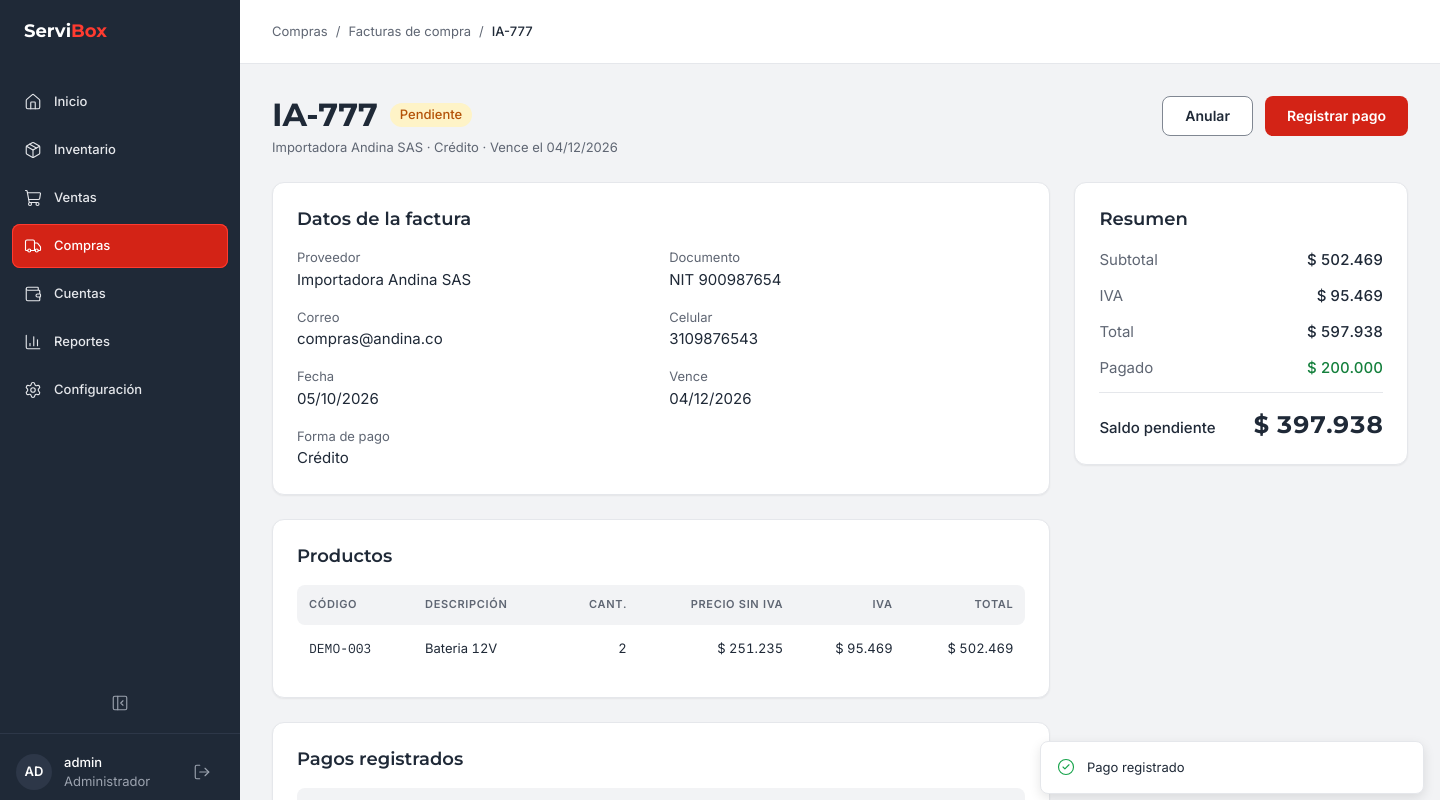
Test: detalle de factura de compra › un 409 de saldo queda en el modal sin perder lo digitado y refresca cuentas y factura
Click the button "Registrar pago".
click(1336, 116)  # box 1265,96 -> 1408,136
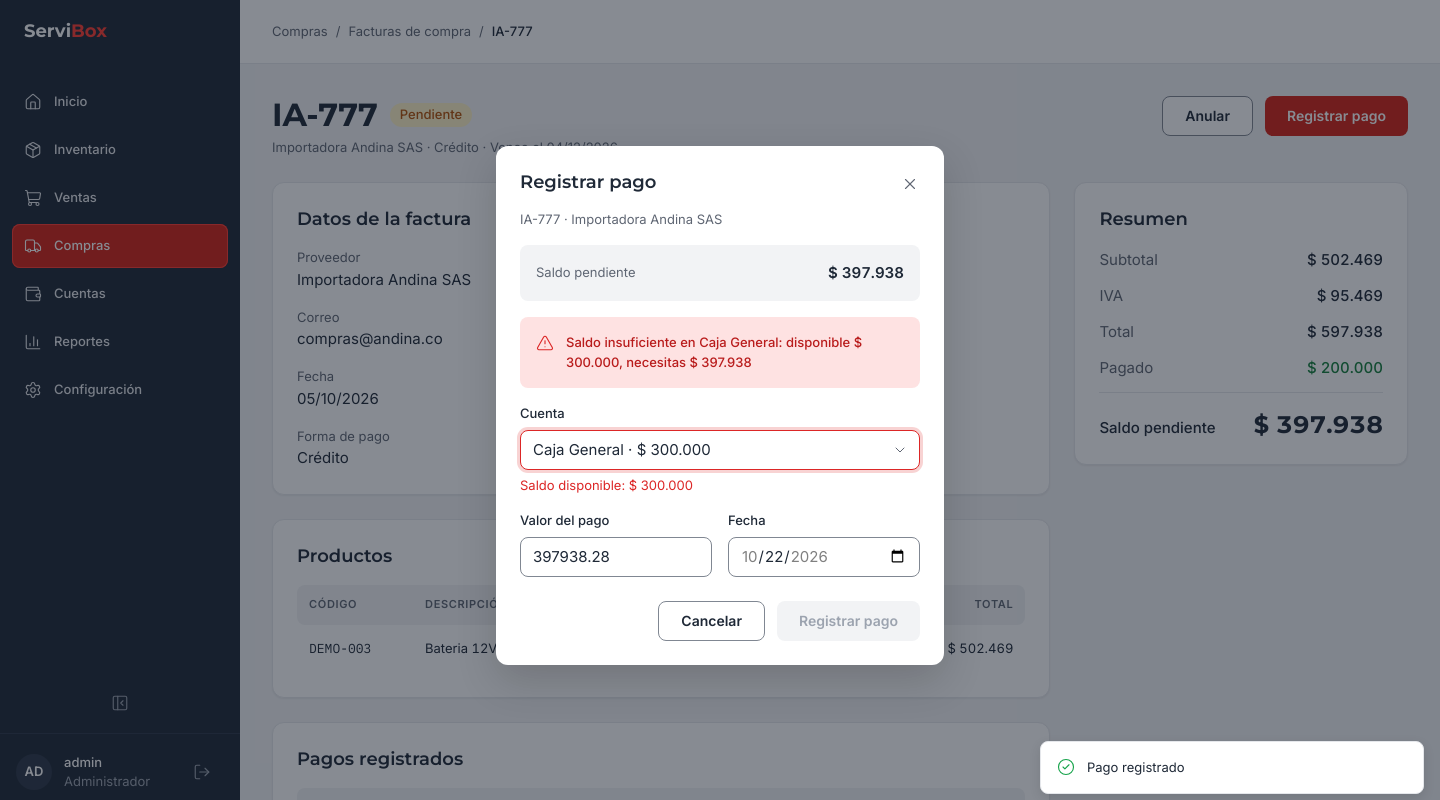
Select "Bancolombia · $ 2.000.000" in the dropdown labelled "Cuenta" at [720, 450], box 520,430 -> 920,470
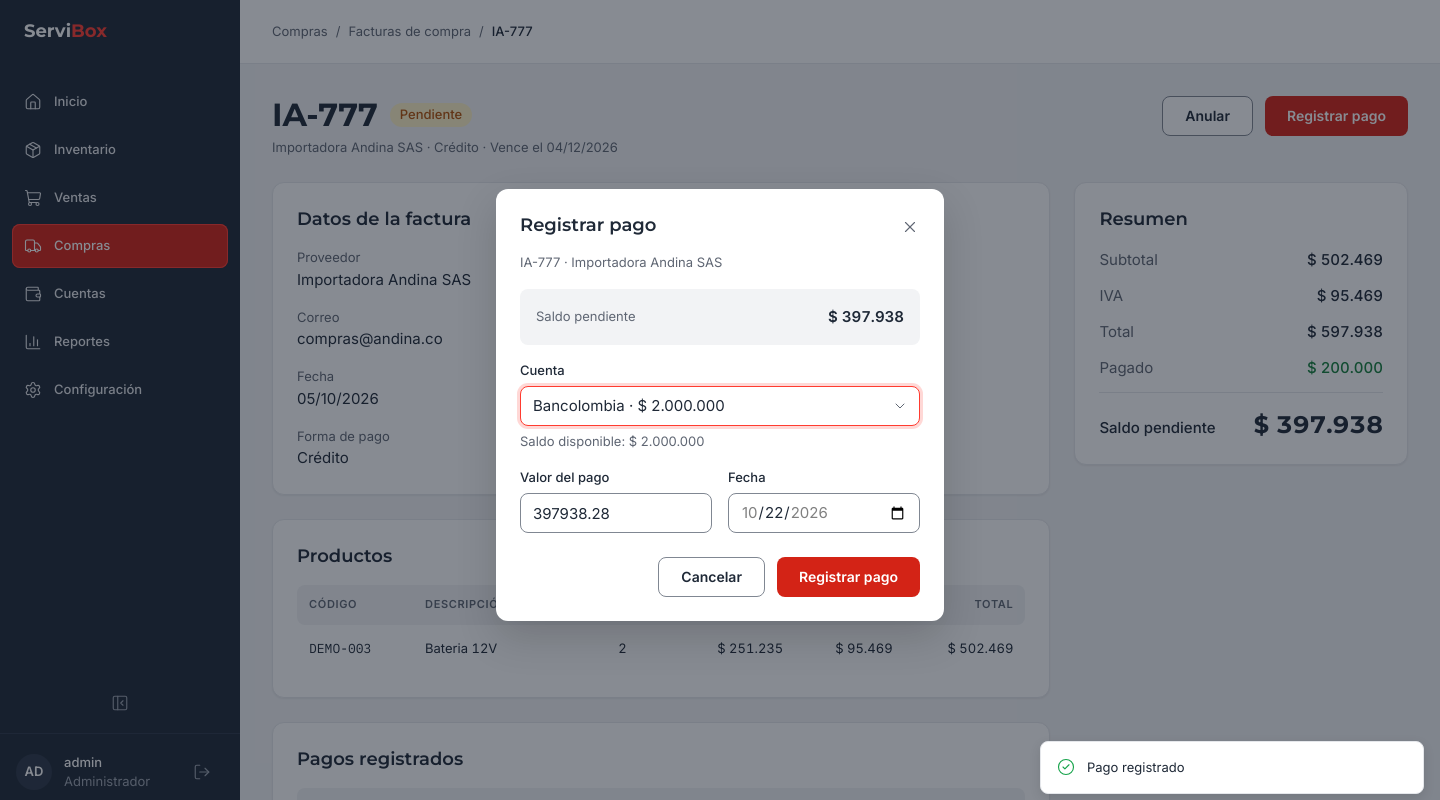
Clear the number field labelled "Valor del pago" at [616, 513], box 520,493 -> 712,533
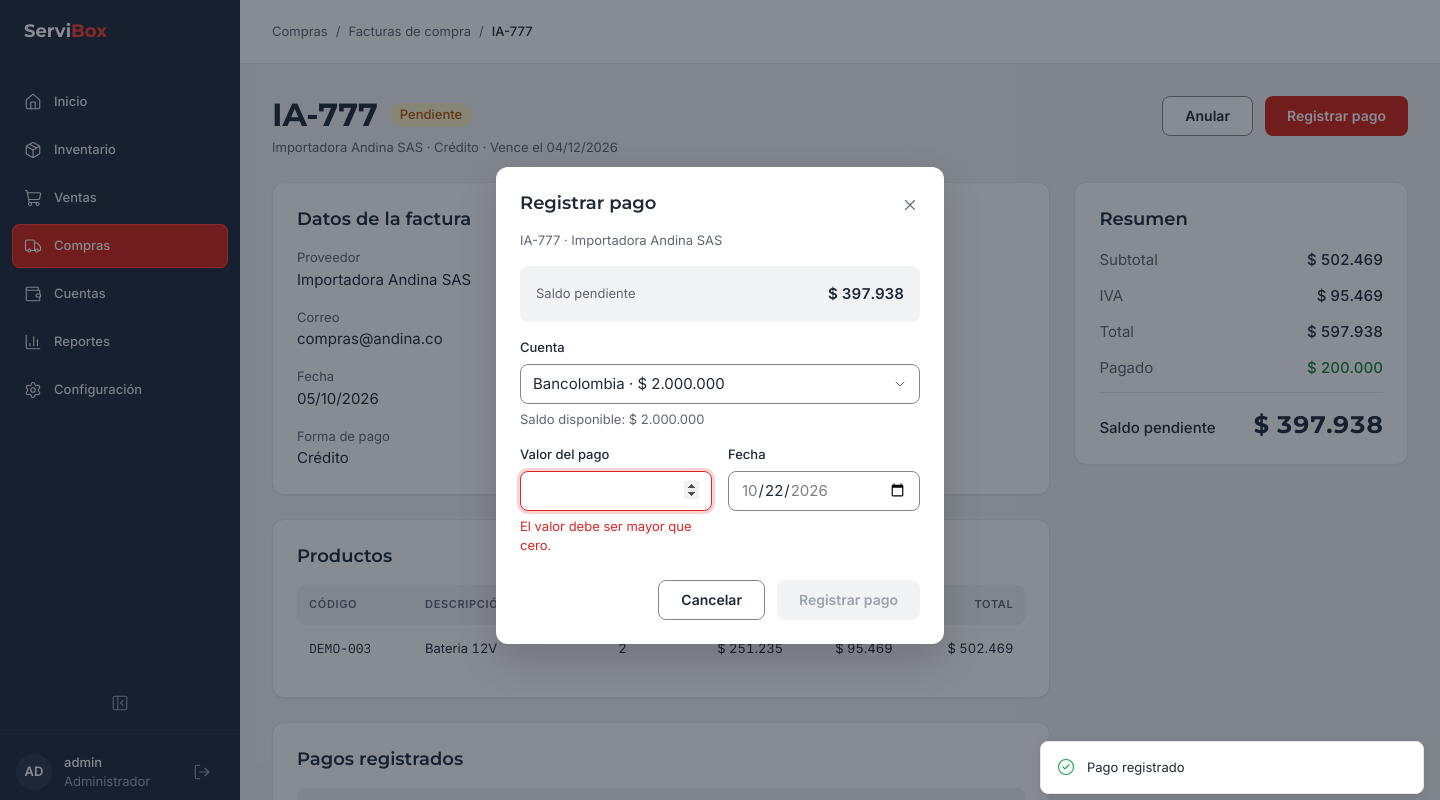
Type "250000" into the number field labelled "Valor del pago".
click(616, 490); type("250000")  # box 520,470 -> 712,510
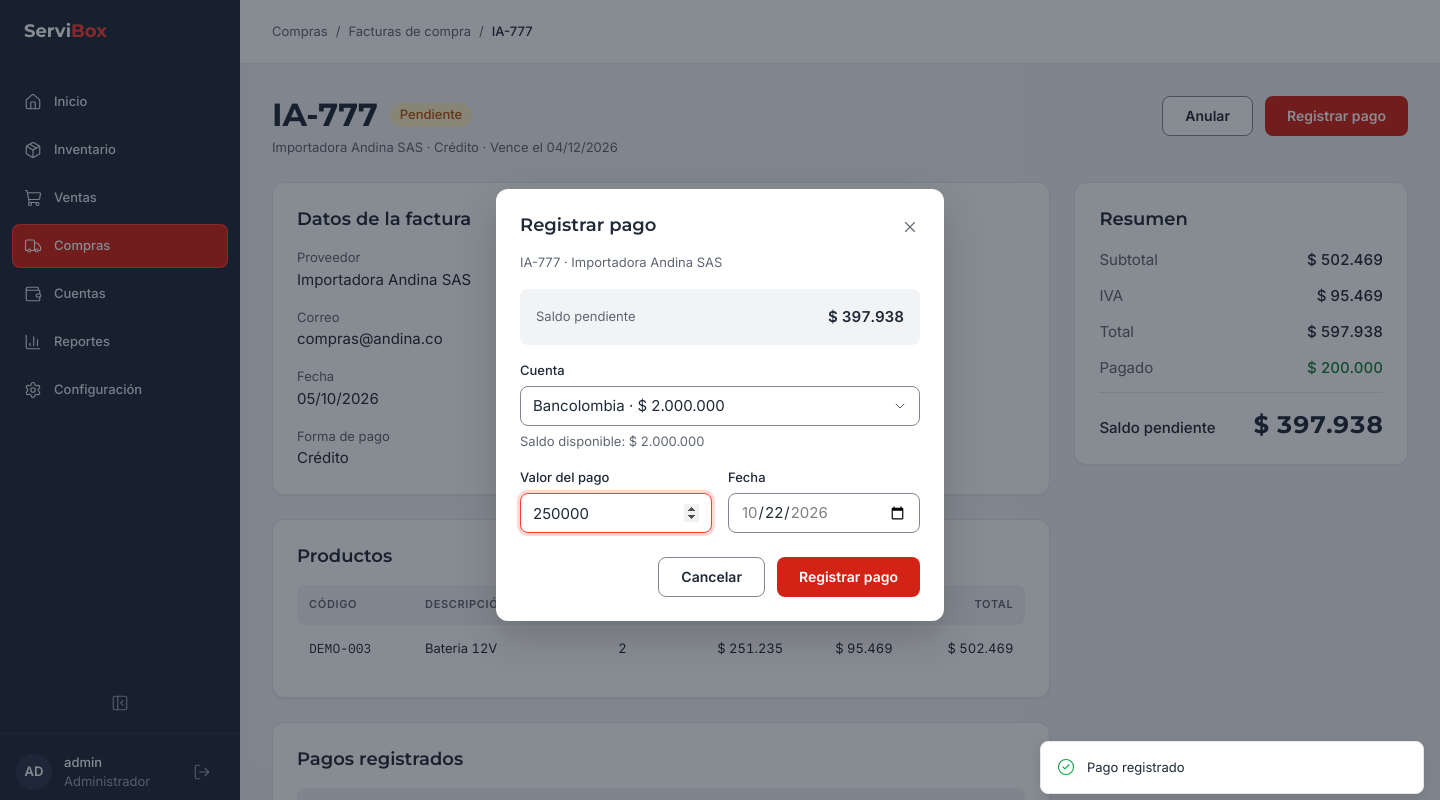
Click the button "Registrar pago".
click(848, 577)  # box 777,557 -> 920,597
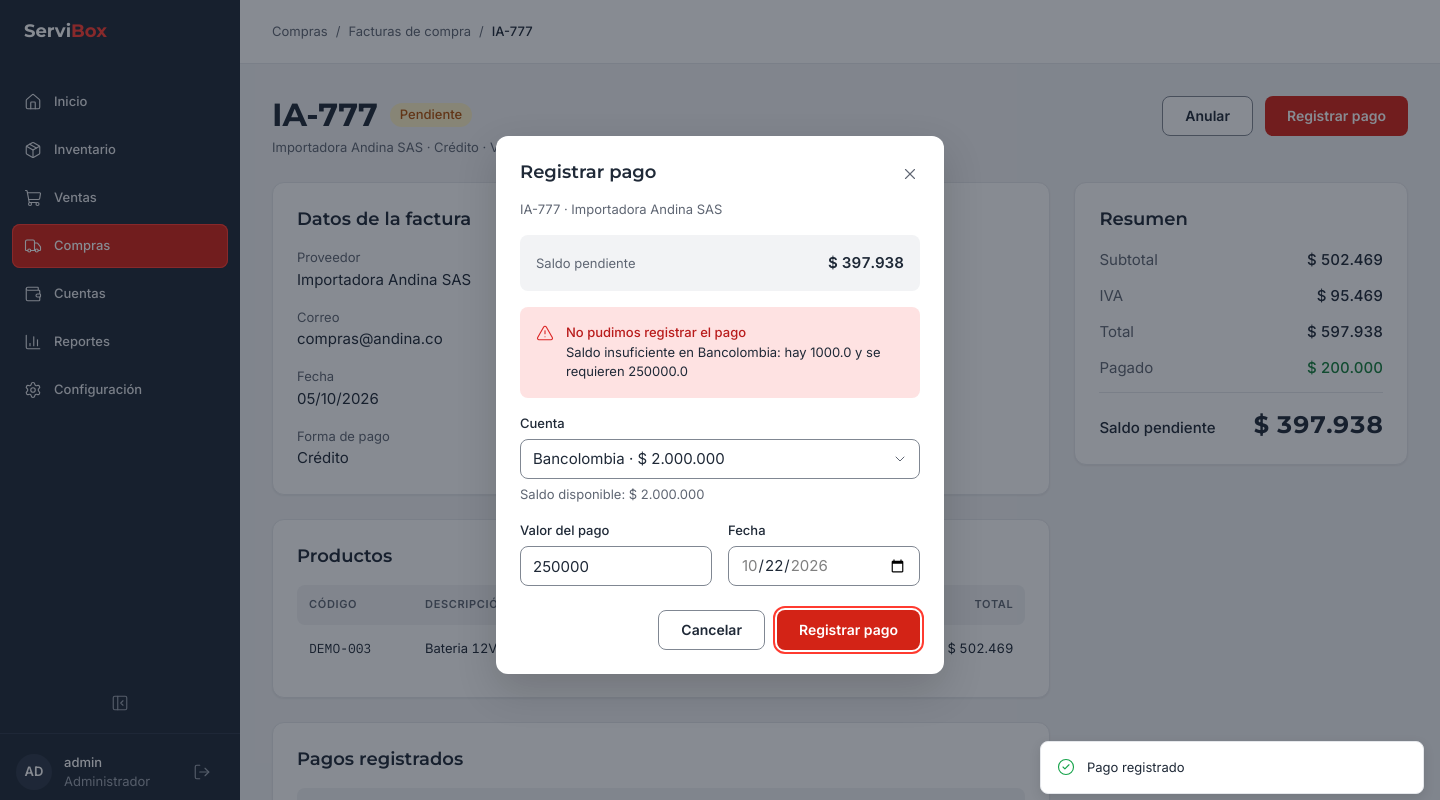
Expected: the text "Saldo insuficiente en Bancolombia: hay 1000.0 y se requieren 250000.0" is shown, 566,343 -> 904,382
Expected: the text "No pudimos registrar el pago" is shown, 566,324 -> 746,340
